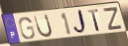1: (60, 11, 72, 36)
G: (18, 16, 36, 41)
J: (73, 9, 89, 36)
T: (86, 9, 101, 32)
U: (33, 13, 54, 39)
Z: (103, 6, 124, 32)
